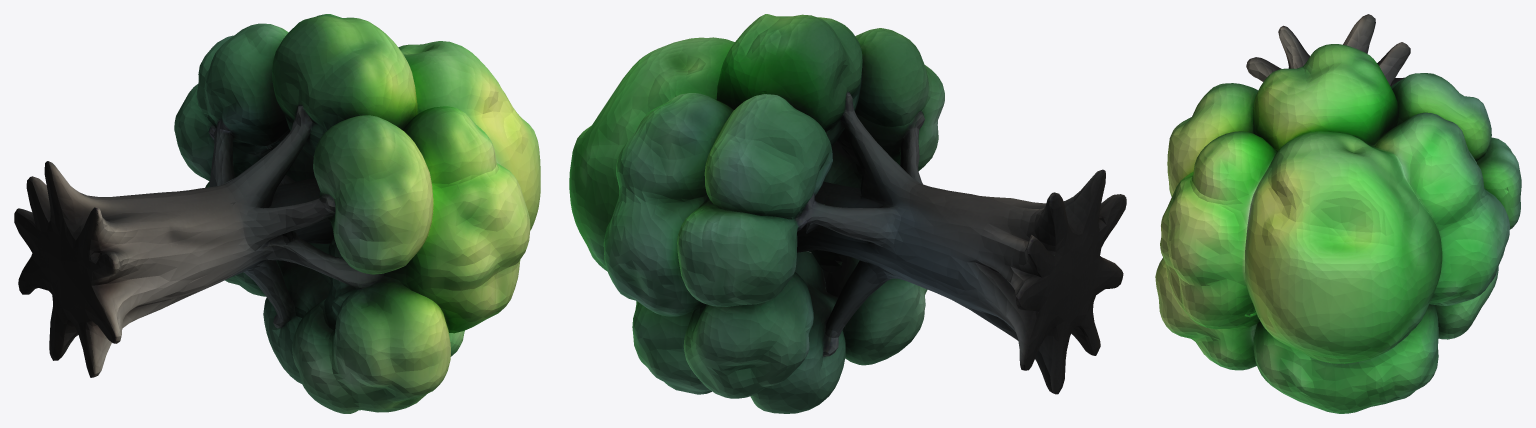
The model's file is oak_tree_comfyui.glb.
The picture shows the model from 3 angles, left to right: view 1: azimuth 30°, elevation 25°; view 2: azimuth 150°, elevation 25°; view 3: azimuth 270°, elevation 25°; orthographic projection. The views are drawn at different scales.
Bounding box in the file's own units: 0.9953 × 0.7596 × 0.7544.
Materials: 1 (1 with a texture image).
